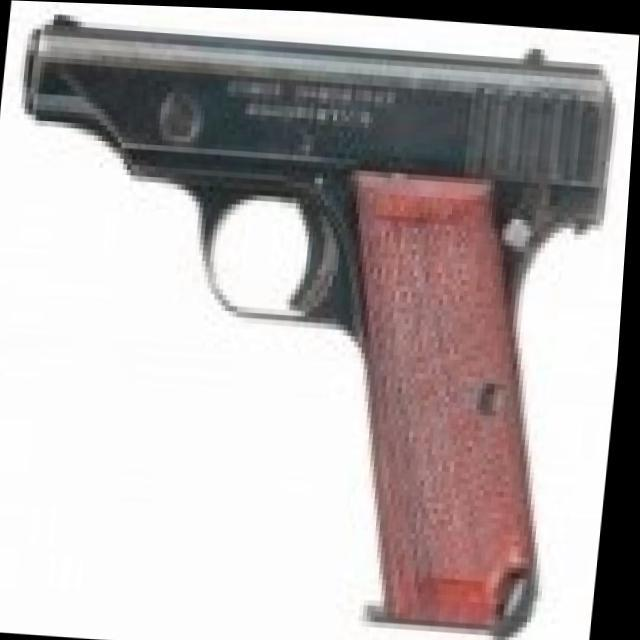weapon: (0, 6, 622, 630)
